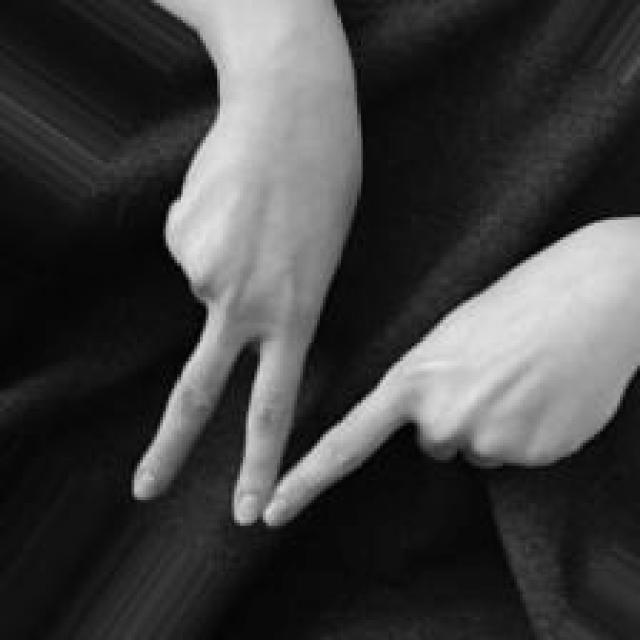N: (126, 131, 640, 533)
